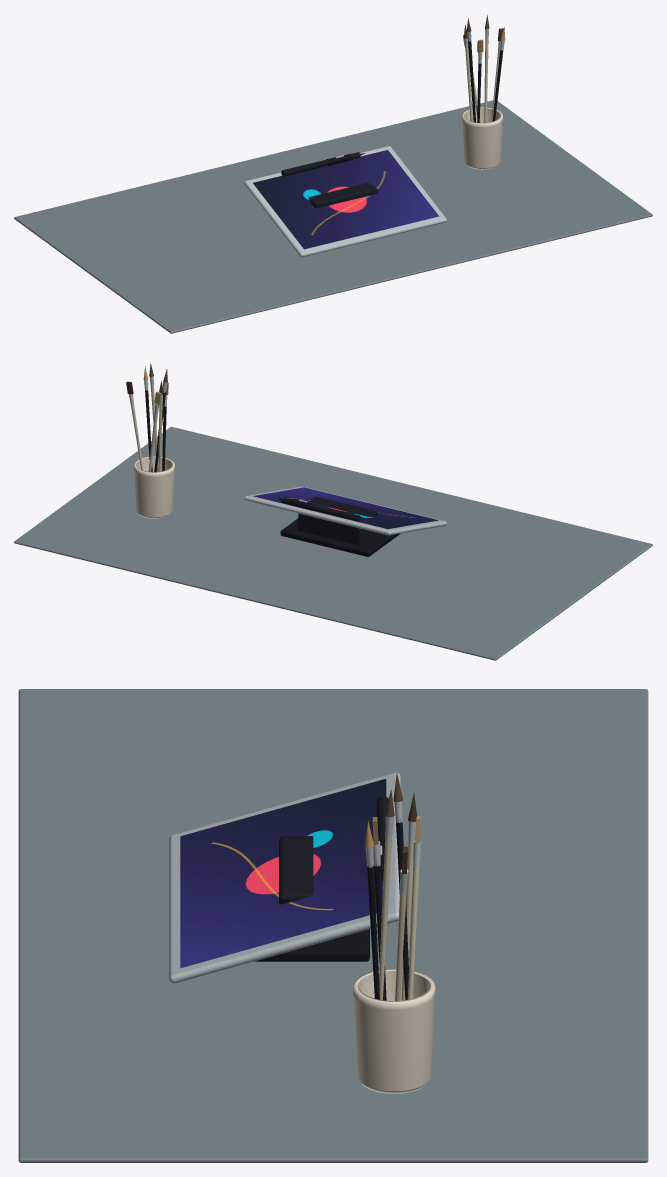
File: atelier-artist-set-ipad-chalk.glb
The picture shows the model from 3 angles, top to bottom: view 1: azimuth 30°, elevation 25°; view 2: azimuth 150°, elevation 25°; view 3: azimuth 270°, elevation 25°; orthographic projection. The views are drawn at different scales.
Bounding box in the file's own units: 0.92 × 0.277 × 0.52.
14 materials, 1 textured.
